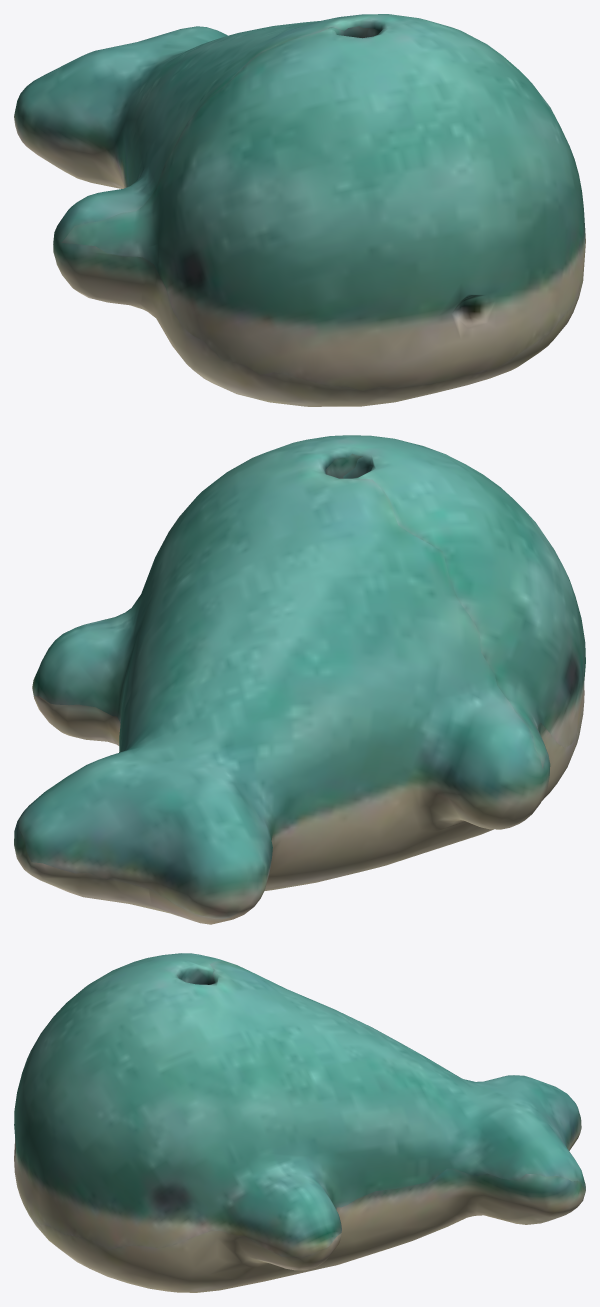
Rendered from WHALE_WHISTLE_6PCS_SET-high.glb.
3 views of the same model, one above another, from view 1: azimuth 30°, elevation 25°; view 2: azimuth 150°, elevation 25°; view 3: azimuth 270°, elevation 25° (orthographic). The views are drawn at different scales.
Visible parts, largest first — view 1: WHALE_WHISTLE_6PCS_SET; view 2: WHALE_WHISTLE_6PCS_SET; view 3: WHALE_WHISTLE_6PCS_SET.
Part boxes in pixels (x1=…): WHALE_WHISTLE_6PCS_SET: x1=14, y1=14, x2=585, y2=406; WHALE_WHISTLE_6PCS_SET: x1=14, y1=435, x2=585, y2=924; WHALE_WHISTLE_6PCS_SET: x1=14, y1=953, x2=585, y2=1292.
Bounding box in the file's own units: 0.0583 × 0.038 × 0.0733.
Materials: 1 (1 with a texture image).
